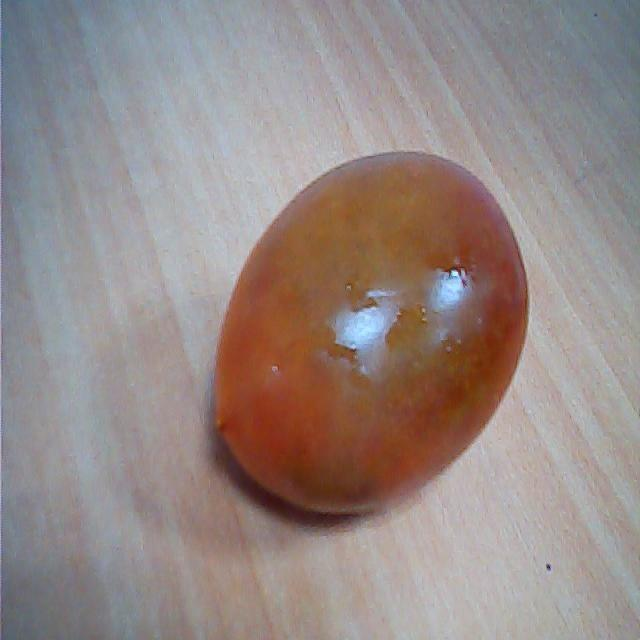verde: (207, 147, 531, 518)
